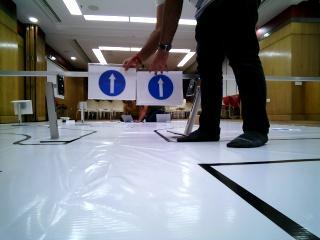straight: (92, 68, 136, 99), (142, 72, 182, 102)
